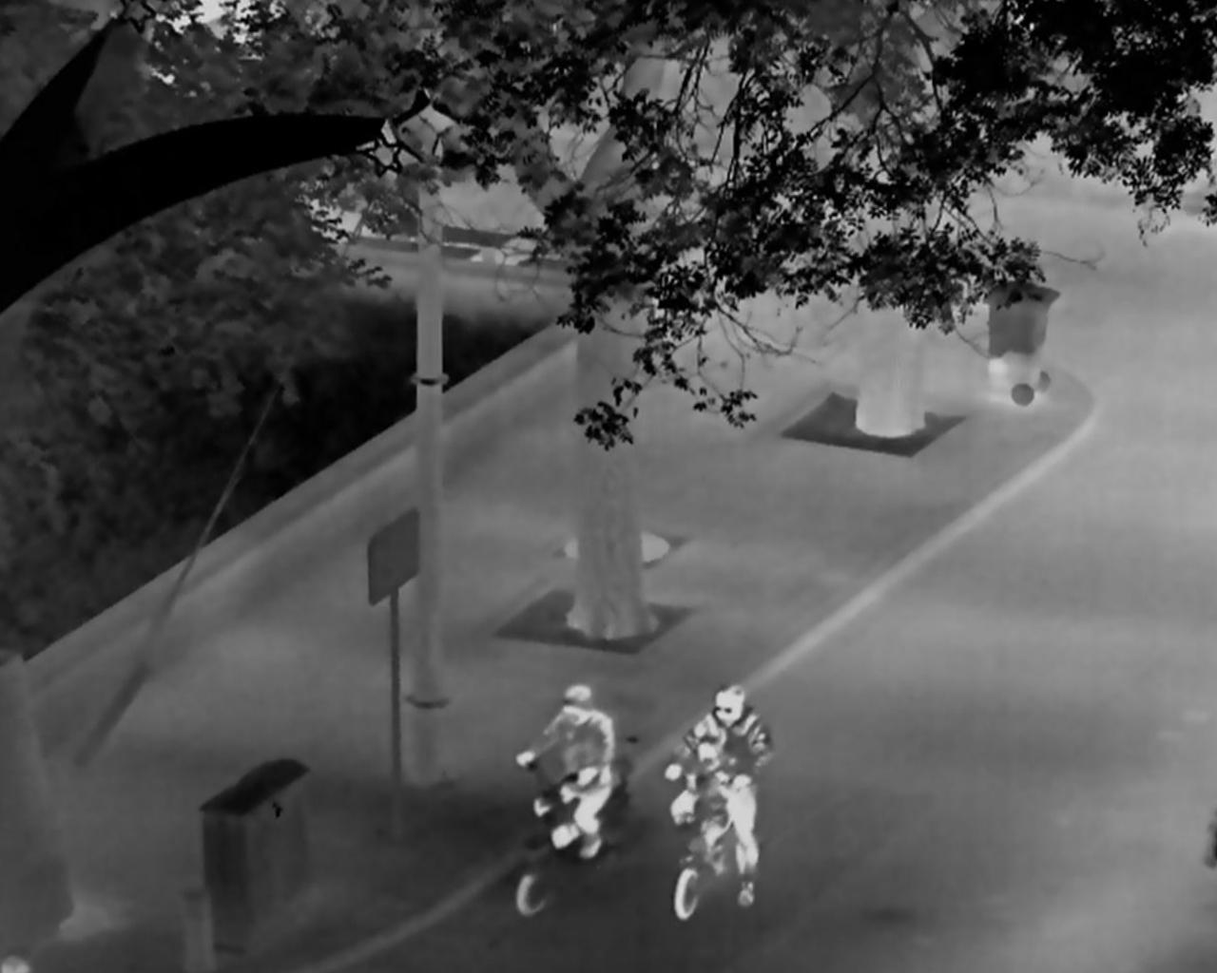person: (662, 683, 772, 909), (513, 682, 615, 858), (685, 735, 739, 876)
